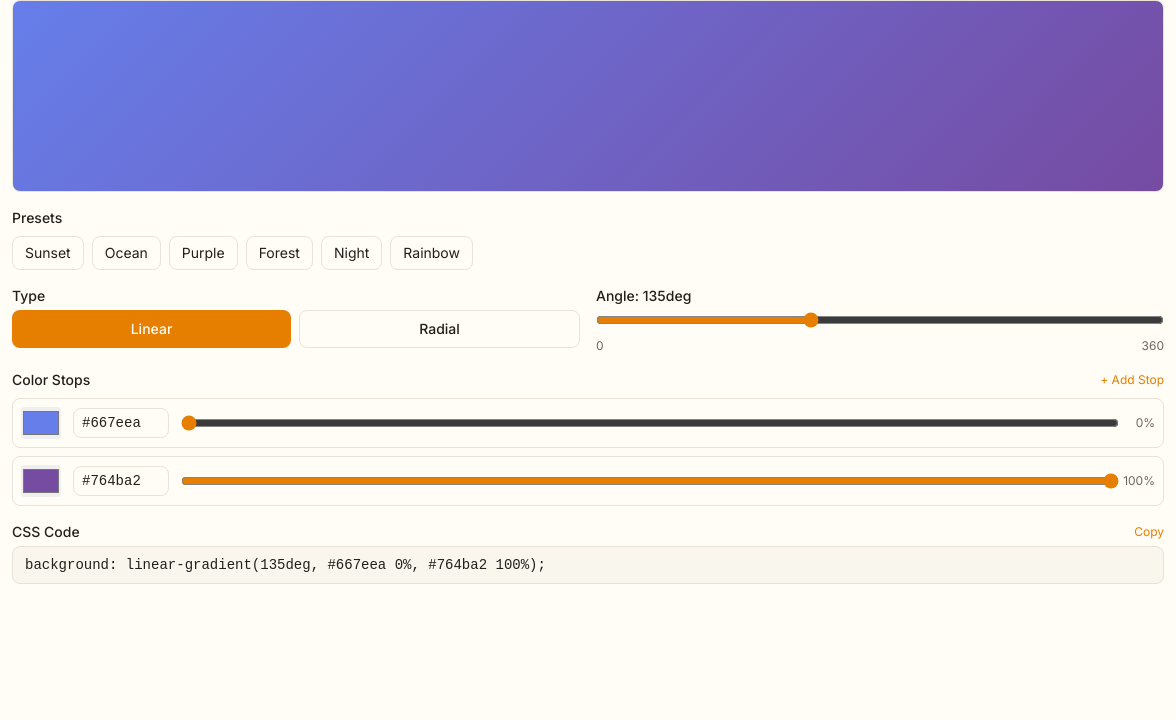
Scenario: GradientGenerator › adds a color stop when "+ Add Stop" is clicked
Click the button "+ Add Stop" at (1132, 380), box [1100,372,1164,388]
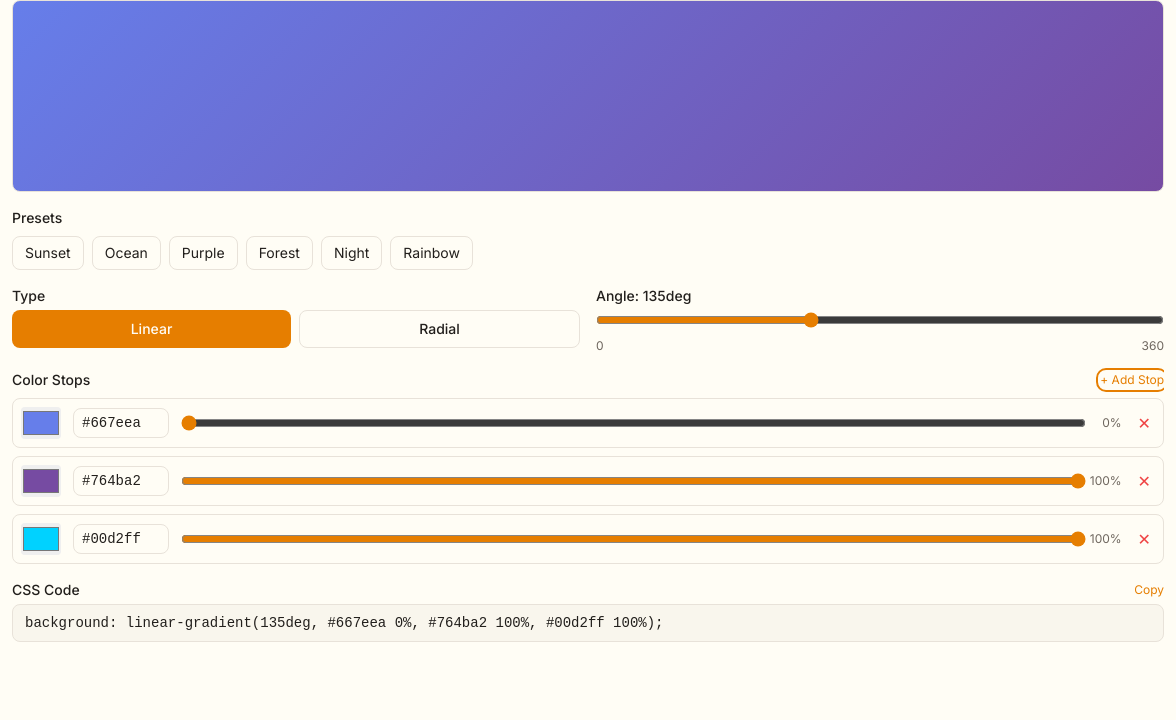
Check: the number of buttons titled "Remove stop" is 3, box [1134,407,1155,439]; [1134,465,1155,497]; [1134,523,1155,555]
